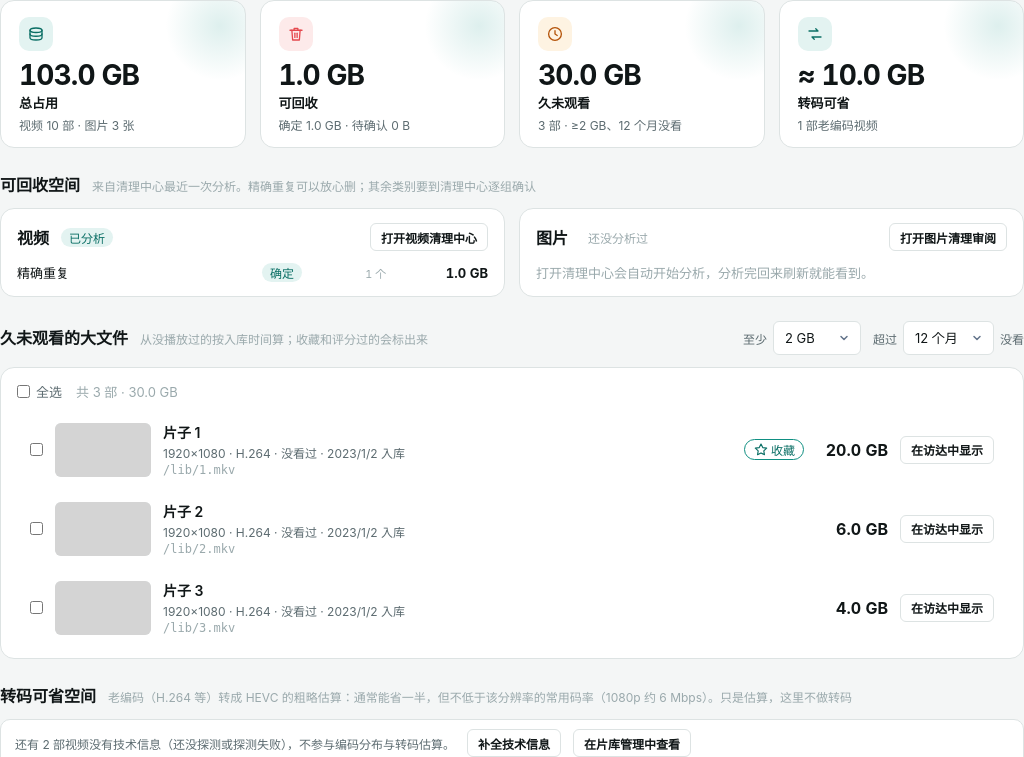
存储体检复审修复（部分失败、撤销中、清理结果乱序） › 部分没移到废纸篓：失败原因在刷新之后仍然留着
The image size is (1024, 757).
Click the 1st checkbox with test id "storage-unwatched-toggle" at (36, 450), box x1=30 y1=443 x2=43 y2=456
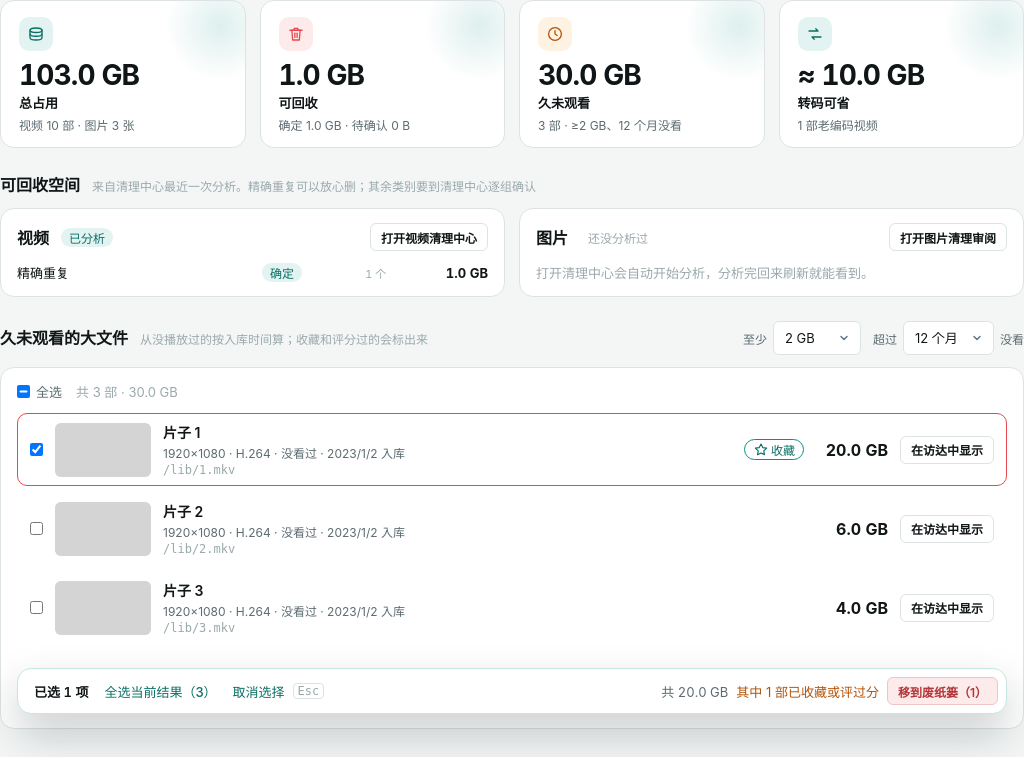
Click the 2nd checkbox with test id "storage-unwatched-toggle" at (36, 528), box x1=30 y1=522 x2=43 y2=535
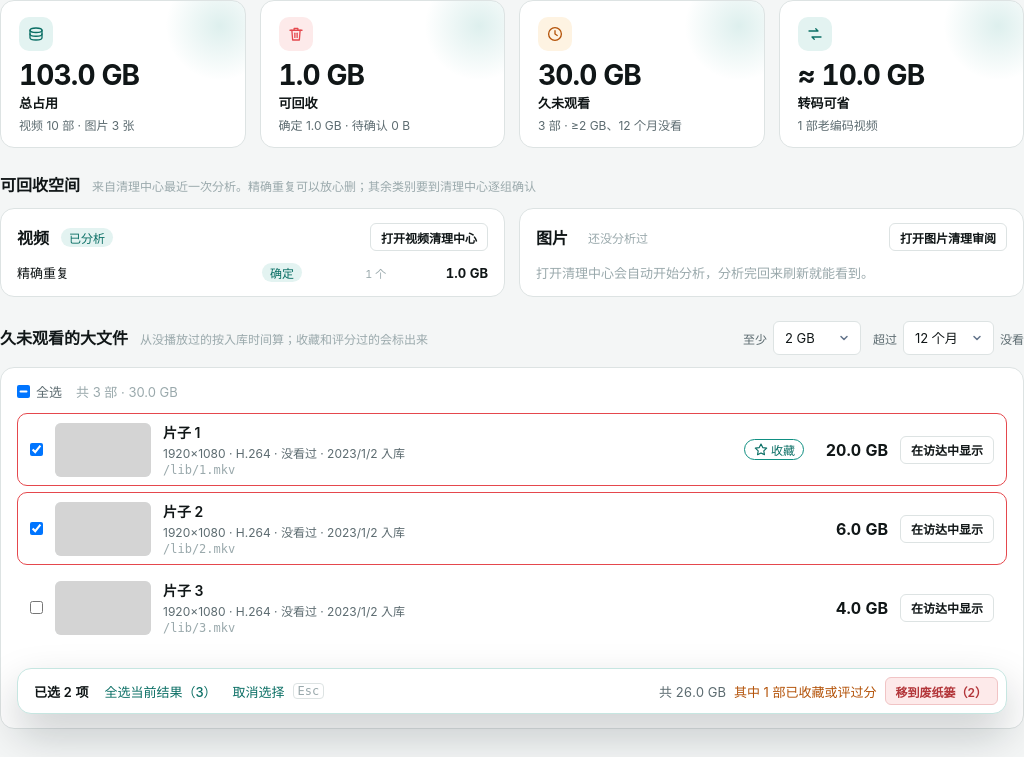
Click the button with test id "storage-delete-selected" at (941, 691), box x1=884 y1=677 x2=998 y2=705
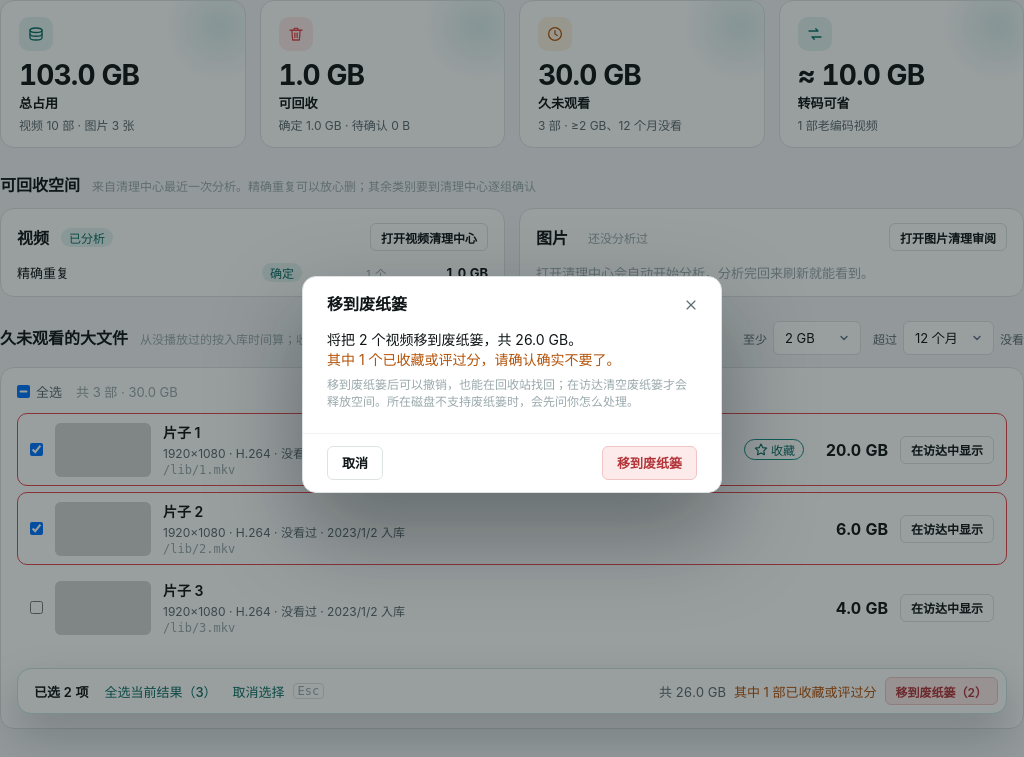
Click the button with test id "storage-delete-confirm" at (650, 462), box x1=602 y1=446 x2=697 y2=480
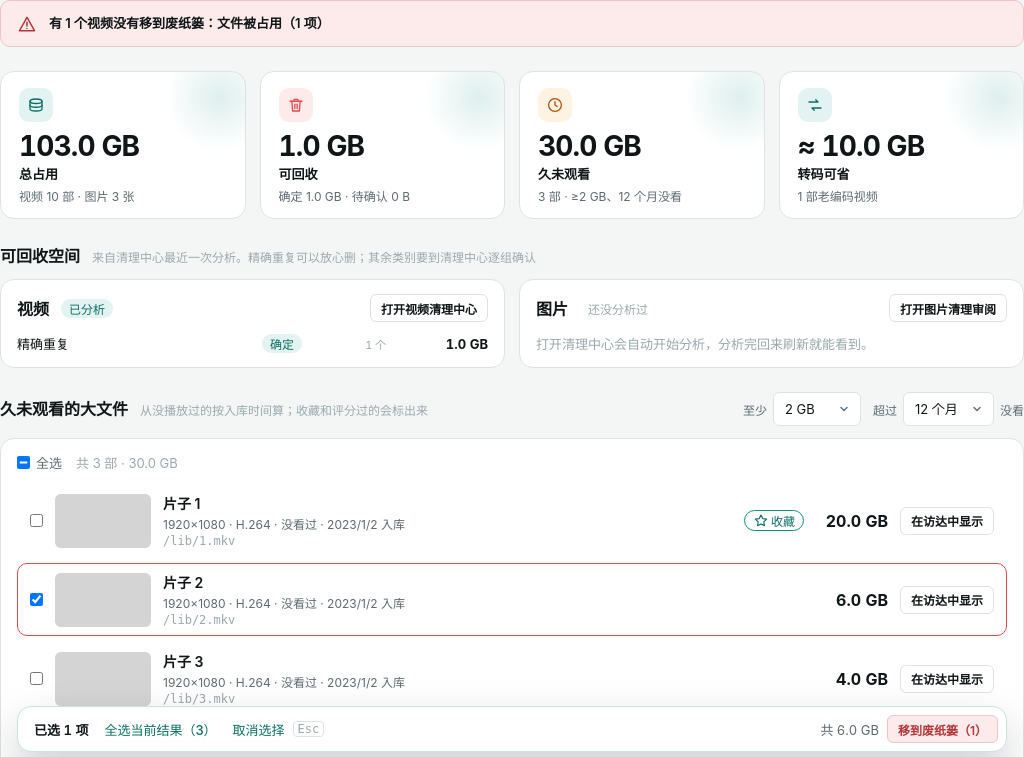
Expected: the message with test id "storage-error" shows "有 1 个视频没有移到废纸篓", x1=49 y1=15 x2=330 y2=31
